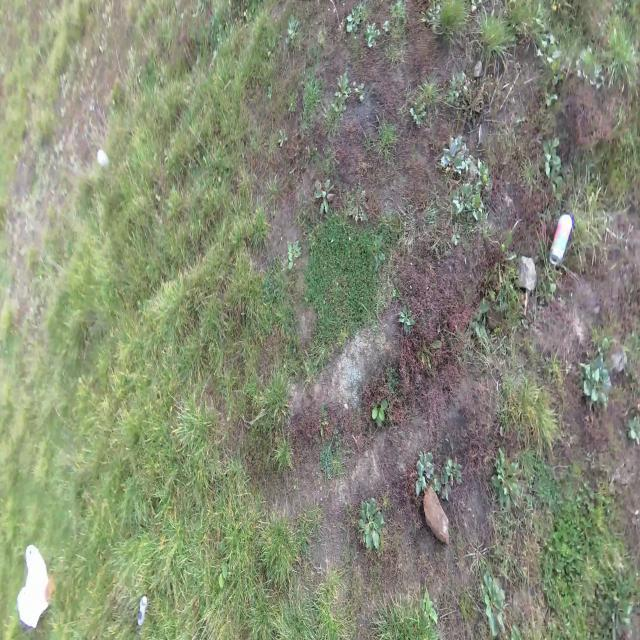rubbish: (17, 544, 49, 629), (549, 214, 573, 266), (137, 595, 148, 626), (96, 149, 109, 171)
